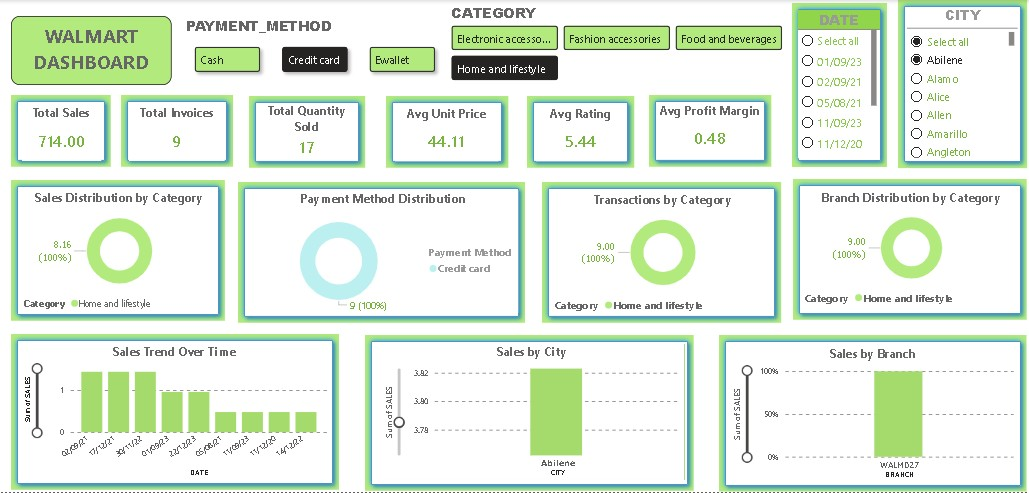

What the dashboard file says about the page in this screenshot:
{"tool":"powerbi","page":{"name":"Page 1","canvas":[1518,720],"ordinal":0},"visuals":[{"type":"advancedSlicerVisual","fields":{"Values":["walmart_clean.CATEGORY"]},"box":[662.5,4.9,495.2,118.5],"z":0},{"type":"shape","box":[356,266,420,206],"z":1000},{"type":"advancedSlicerVisual","fields":{"Values":["walmart_clean.PAYMENT_METHOD"]},"box":[275.1,23.4,386.3,99.5],"z":2000},{"type":"textbox","box":[22.7,22.7,235.4,100.7],"z":3000},{"type":"shape","box":[23.4,139,146.3,105],"z":4000},{"type":"shape","box":[1321.5,0,188.8,245.9],"z":5000},{"type":"donutChart","title":"Payment Method Distribution","fields":{"Category":["walmart_clean.PAYMENT_METHOD"],"Y":["CountNonNull(walmart_clean.PAYMENT_METHOD)"]},"box":[371.7,278,393.7,180],"z":6000},{"type":"shape","box":[1166.3,4.4,139,240],"z":7000},{"type":"listSlicer","fields":{"Values":["walmart_clean.DATE"]},"box":[1175.1,14.6,120,216.6],"z":8000},{"type":"cardVisual","title":"Total Sales","fields":{"Data":["walmart_clean.Total Sales"]},"box":[39.5,153.7,115.6,82],"z":9000},{"type":"shape","box":[778.5,140.5,156.6,105],"z":10000},{"type":"cardVisual","title":"Avg Rating","fields":{"Data":["Avg(walmart_clean.RATING)"]},"box":[791.7,155.1,131.7,81],"z":11000},{"type":"shape","box":[184.4,139,163.9,105],"z":12000},{"type":"cardVisual","title":"Total Invoices","fields":{"Data":["CountNonNull(walmart_clean.INVOICE_ID)"]},"box":[196.1,153.7,140.5,82],"z":13000},{"type":"shape","box":[23.4,263.4,313.2,206.3],"z":14000},{"type":"donutChart","title":"Sales Distribution by Category","fields":{"Category":["walmart_clean.CATEGORY"],"Y":["Sum(walmart_clean.SALES)"]},"box":[39.5,276.6,282.4,181.5],"z":15000},{"type":"listSlicer","fields":{"Values":["walmart_clean.CITY"]},"box":[1334.6,8.8,162.4,226.8],"z":16000},{"type":"shape","box":[572.2,140.5,178.5,105],"z":17000},{"type":"cardVisual","title":"Avg Unit Price","fields":{"Data":["Avg(walmart_clean.UNIT_PRICE)"]},"box":[585.4,155.1,150.7,81],"z":18000},{"type":"shape","box":[23.4,488.8,480,228.3],"z":19000},{"type":"clusteredColumnChart","title":"Sales Trend Over Time","fields":{"Category":["walmart_clean.DATE"],"Y":["Sum(walmart_clean.SALES)"]},"box":[33.7,503.4,458,199],"z":20000},{"type":"shape","box":[957.1,139,178.5,105],"z":21000},{"type":"cardVisual","title":"Avg Profit Margin","fields":{"Data":["Avg(walmart_clean.PROFIT_MARGIN)"]},"box":[967.3,150.7,158,81],"z":22000},{"type":"shape","box":[371.7,140.5,169.8,105],"z":23000},{"type":"cardVisual","title":"Total Quantity Sold","fields":{"Data":["Sum(walmart_clean.QUANTITY)"]},"box":[383.4,150.7,146.3,84],"z":24000},{"type":"shape","box":[1059.5,491,450.5,229.5],"z":25000},{"type":"shape","box":[800.5,266.3,349.8,206],"z":26000},{"type":"donutChart","title":"Transactions by Category","fields":{"Category":["walmart_clean.CATEGORY"],"Y":["CountNonNull(walmart_clean.PAYMENT_METHOD)"]},"box":[816.6,279.5,319,181.5],"z":27000},{"type":"shape","box":[1167.8,262,342.4,206.3],"z":28000},{"type":"donutChart","title":"Branch Distribution by Category","fields":{"Category":["walmart_clean.CATEGORY"],"Y":["CountNonNull(walmart_clean.BRANCH)"]},"box":[1182.4,276.6,314.6,174.1],"z":29000},{"type":"shape","box":[541.5,490.2,481.5,228.3],"z":30000},{"type":"lineClusteredColumnComboChart","title":"Sales by City","fields":{"Category":["walmart_clean.CITY"],"Y":["Sum(walmart_clean.SALES)"]},"box":[563.4,503.4,444.9,199],"z":31000},{"type":"hundredPercentStackedColumnChart","title":"Sales by Branch","fields":{"Category":["walmart_clean.BRANCH"],"Y":["Sum(walmart_clean.SALES)"]},"box":[1073,506.1,423.5,199.1],"z":32000}]}

Visuals, with their boxes in screenshot pixels (x1, y1, x2, y2), scaled from the page's 1518x720 canvas onto the 1029x493 screenshot:
advancedSlicerVisual - walmart_clean.CATEGORY: bbox=[449, 3, 785, 84]
shape: bbox=[241, 182, 526, 323]
advancedSlicerVisual - walmart_clean.PAYMENT_METHOD: bbox=[186, 16, 448, 84]
textbox: bbox=[15, 16, 175, 84]
shape: bbox=[16, 95, 115, 167]
shape: bbox=[896, 0, 1024, 168]
"Payment Method Distribution" donutChart: bbox=[252, 190, 519, 314]
shape: bbox=[791, 3, 885, 167]
listSlicer - walmart_clean.DATE: bbox=[797, 10, 878, 158]
"Total Sales" cardVisual: bbox=[27, 105, 105, 161]
shape: bbox=[528, 96, 634, 168]
"Avg Rating" cardVisual: bbox=[537, 106, 626, 162]
shape: bbox=[125, 95, 236, 167]
"Total Invoices" cardVisual: bbox=[133, 105, 228, 161]
shape: bbox=[16, 180, 228, 322]
"Sales Distribution by Category" donutChart: bbox=[27, 189, 218, 314]
listSlicer - walmart_clean.CITY: bbox=[905, 6, 1015, 161]
shape: bbox=[388, 96, 509, 168]
"Avg Unit Price" cardVisual: bbox=[397, 106, 499, 162]
shape: bbox=[16, 335, 341, 491]
"Sales Trend Over Time" clusteredColumnChart: bbox=[23, 345, 333, 481]
shape: bbox=[649, 95, 770, 167]
"Avg Profit Margin" cardVisual: bbox=[656, 103, 763, 159]
shape: bbox=[252, 96, 367, 168]
"Total Quantity Sold" cardVisual: bbox=[260, 103, 359, 161]
shape: bbox=[718, 336, 1024, 492]
shape: bbox=[543, 182, 780, 323]
"Transactions by Category" donutChart: bbox=[554, 191, 770, 316]
shape: bbox=[792, 179, 1024, 321]
"Branch Distribution by Category" donutChart: bbox=[802, 189, 1015, 309]
shape: bbox=[367, 336, 693, 492]
"Sales by City" lineClusteredColumnComboChart: bbox=[382, 345, 683, 481]
"Sales by Branch" hundredPercentStackedColumnChart: bbox=[727, 347, 1014, 483]
